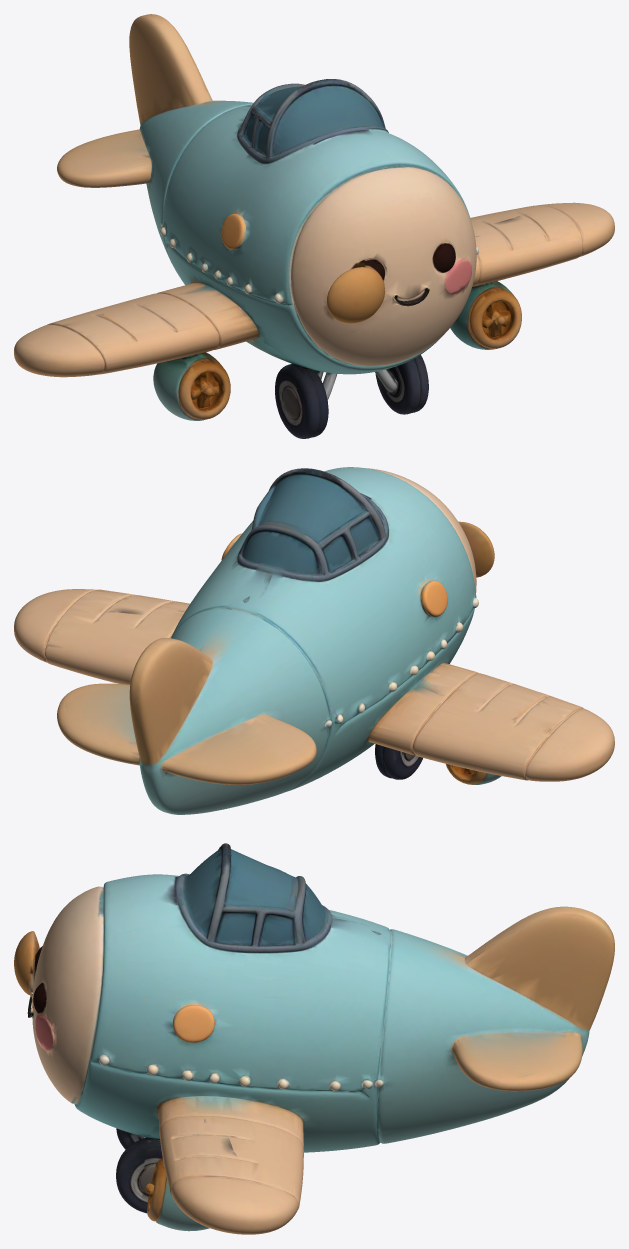
The model's file is cute_plane_2-transformed.glb.
The picture shows the model from 3 angles, top to bottom: view 1: azimuth 30°, elevation 25°; view 2: azimuth 150°, elevation 25°; view 3: azimuth 270°, elevation 25°; orthographic projection. The views are drawn at different scales.
Visible parts, largest first — view 1: node_0; view 2: node_0; view 3: node_0.
Boxes of the visible parts, x1,y1,x2,y2 form: node_0: [14, 14, 614, 438]; node_0: [14, 467, 614, 814]; node_0: [14, 843, 614, 1234].
Size of the model in its own units: 1.15 by 0.5961 by 0.9677.
Materials: 1 (1 with a texture image).
